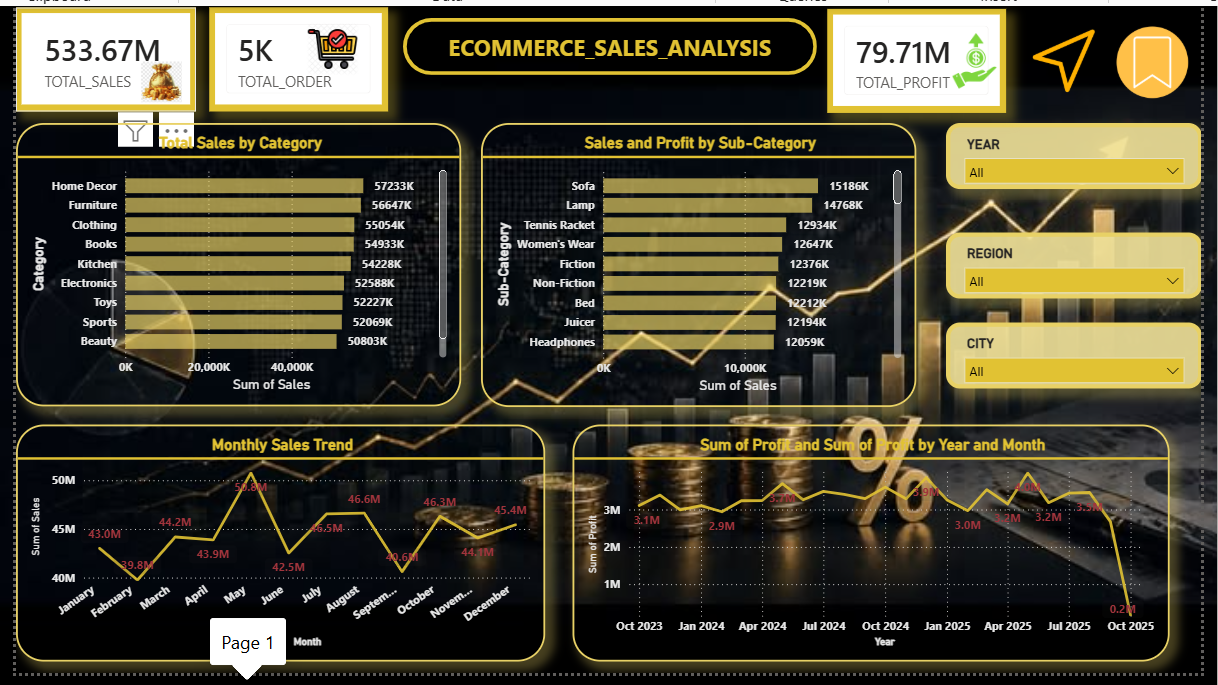

Layout of this report page (visuals, bound fields, positions):
{"tool":"powerbi","page":{"name":"Page 1","canvas":[1280,720],"ordinal":0},"visuals":[{"type":"shape","box":[417.8,13,446.9,61.5],"z":0},{"type":"cardVisual","fields":{"Data":["Sum(Ecommerce_Sales_Data_2024_2025.Sales)"]},"box":[0,1.6,194.3,111.7],"z":1000},{"type":"image","box":[134.4,59.9,45.3,43.7],"z":2000},{"type":"cardVisual","fields":{"Data":["CountNonNull(Ecommerce_Sales_Data_2024_2025.Order ID)"]},"box":[208.9,1.6,192.7,111.7],"z":3000},{"type":"image","box":[305.1,17.9,75,57.1],"z":4000},{"type":"clusteredBarChart","fields":{"Category":["Ecommerce_Sales_Data_2024_2025.Category"],"Y":["Sum(Ecommerce_Sales_Data_2024_2025.Sales)"]},"box":[0,126.3,480.9,306],"z":5000},{"type":"clusteredBarChart","fields":{"Category":["Ecommerce_Sales_Data_2024_2025.Sub-Category"],"Y":["Sum(Ecommerce_Sales_Data_2024_2025.Sales)"]},"box":[502.4,125.6,469.8,306.7],"z":6000},{"type":"lineChart","fields":{"Category":["Ecommerce_Sales_Data_2024_2025.Order Date.Variation.Date Hierarchy.Month"],"Y":["Sum(Ecommerce_Sales_Data_2024_2025.Sales)"]},"box":[0,451.8,571.6,255.8],"z":7000},{"type":"lineChart","fields":{"Category":["Ecommerce_Sales_Data_2024_2025.Order Date.Variation.Date Hierarchy.Month"],"Y":["Sum(Ecommerce_Sales_Data_2024_2025.Profit)"]},"box":[599.1,451.8,646.1,255.8],"z":8000},{"type":"slicer","fields":{"Values":["Ecommerce_Sales_Data_2024_2025.Order Date.Variation.Date Hierarchy.Year"]},"box":[1003.9,126.3,276.9,71.2],"z":9000},{"type":"slicer","fields":{"Values":["Ecommerce_Sales_Data_2024_2025.Region"]},"box":[1003.9,244.5,276.9,71.2],"z":10000},{"type":"slicer","fields":{"Values":["Ecommerce_Sales_Data_2024_2025.City"]},"box":[1003.9,341.7,276.9,71.2],"z":11000},{"type":"cardVisual","fields":{"Data":["Sum(Ecommerce_Sales_Data_2024_2025.Profit)"]},"box":[876,3.2,192.7,111.7],"z":12000},{"type":"image","box":[1000.7,29.1,68,59.9],"z":13000},{"type":"image","box":[1080,17.8,102,82.6],"z":14000},{"type":"image","box":[1172.3,17.8,108.5,85.8],"z":15000}]}

Visuals, with their boxes in screenshot pixels (x1, y1, x2, y2), scaled from the page's 1280x720 canvas onto the 1218x685 screenshot:
shape: box(398, 12, 823, 71)
cardVisual - Sum(Ecommerce_Sales_Data_2024_2025.Sales): box(0, 2, 185, 108)
image: box(128, 57, 171, 99)
cardVisual - CountNonNull(Ecommerce_Sales_Data_2024_2025.Order ID): box(199, 2, 382, 108)
image: box(290, 17, 362, 71)
clusteredBarChart - Ecommerce_Sales_Data_2024_2025.Category x Sum(Ecommerce_Sales_Data_2024_2025.Sales): box(0, 120, 458, 411)
clusteredBarChart - Ecommerce_Sales_Data_2024_2025.Sub-Category x Sum(Ecommerce_Sales_Data_2024_2025.Sales): box(478, 119, 925, 411)
lineChart - Ecommerce_Sales_Data_2024_2025.Order Date.Variation.Date Hierarchy.Month x Sum(Ecommerce_Sales_Data_2024_2025.Sales): box(0, 430, 544, 673)
lineChart - Ecommerce_Sales_Data_2024_2025.Order Date.Variation.Date Hierarchy.Month x Sum(Ecommerce_Sales_Data_2024_2025.Profit): box(570, 430, 1185, 673)
slicer - Ecommerce_Sales_Data_2024_2025.Order Date.Variation.Date Hierarchy.Year: box(955, 120, 1217, 188)
slicer - Ecommerce_Sales_Data_2024_2025.Region: box(955, 233, 1217, 300)
slicer - Ecommerce_Sales_Data_2024_2025.City: box(955, 325, 1217, 393)
cardVisual - Sum(Ecommerce_Sales_Data_2024_2025.Profit): box(834, 3, 1017, 109)
image: box(952, 28, 1017, 85)
image: box(1028, 17, 1125, 96)
image: box(1116, 17, 1217, 99)
